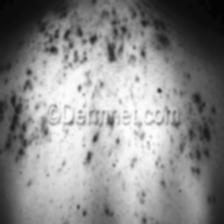Non-Cancerous Skin Condition: (38, 20, 176, 64), (61, 6, 67, 18), (12, 115, 17, 123), (194, 93, 197, 102), (196, 151, 198, 158)
